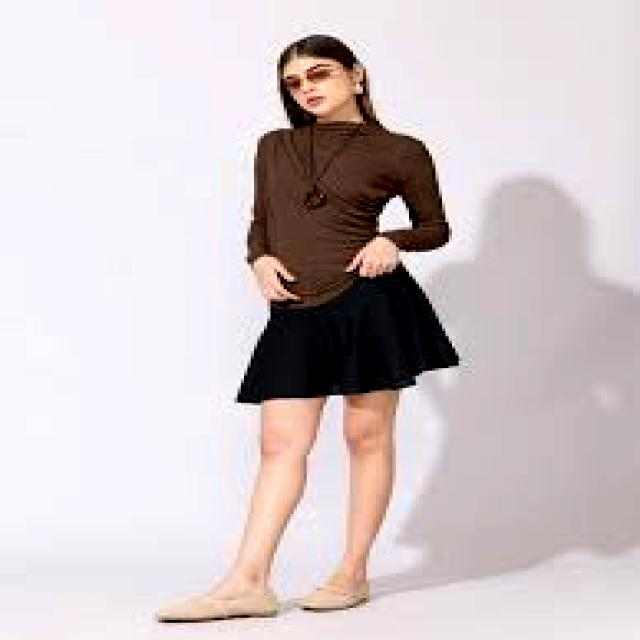face: (281, 57, 362, 118)
foot-wear: (156, 589, 280, 622), (297, 581, 369, 610)
lower-wear: (235, 262, 458, 402)
top-wear: (245, 122, 448, 306)
